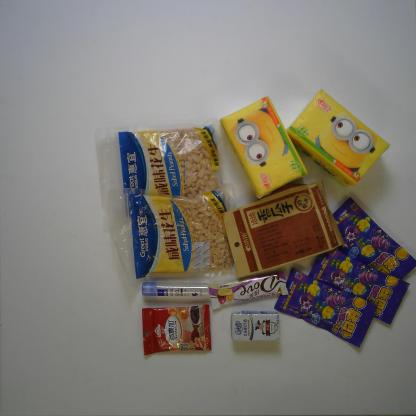Candy: (272, 264, 380, 350), (306, 244, 412, 328), (328, 194, 416, 283)
Chocolate: (206, 269, 292, 312)
Dried Food: (219, 177, 350, 282)
Dried Fruit: (88, 115, 233, 230), (102, 180, 242, 288)
Instant Drink: (138, 301, 216, 359)
Milk: (227, 309, 283, 343)
Stationery: (139, 278, 213, 302)
Tissue: (282, 86, 392, 192), (217, 92, 311, 202)
